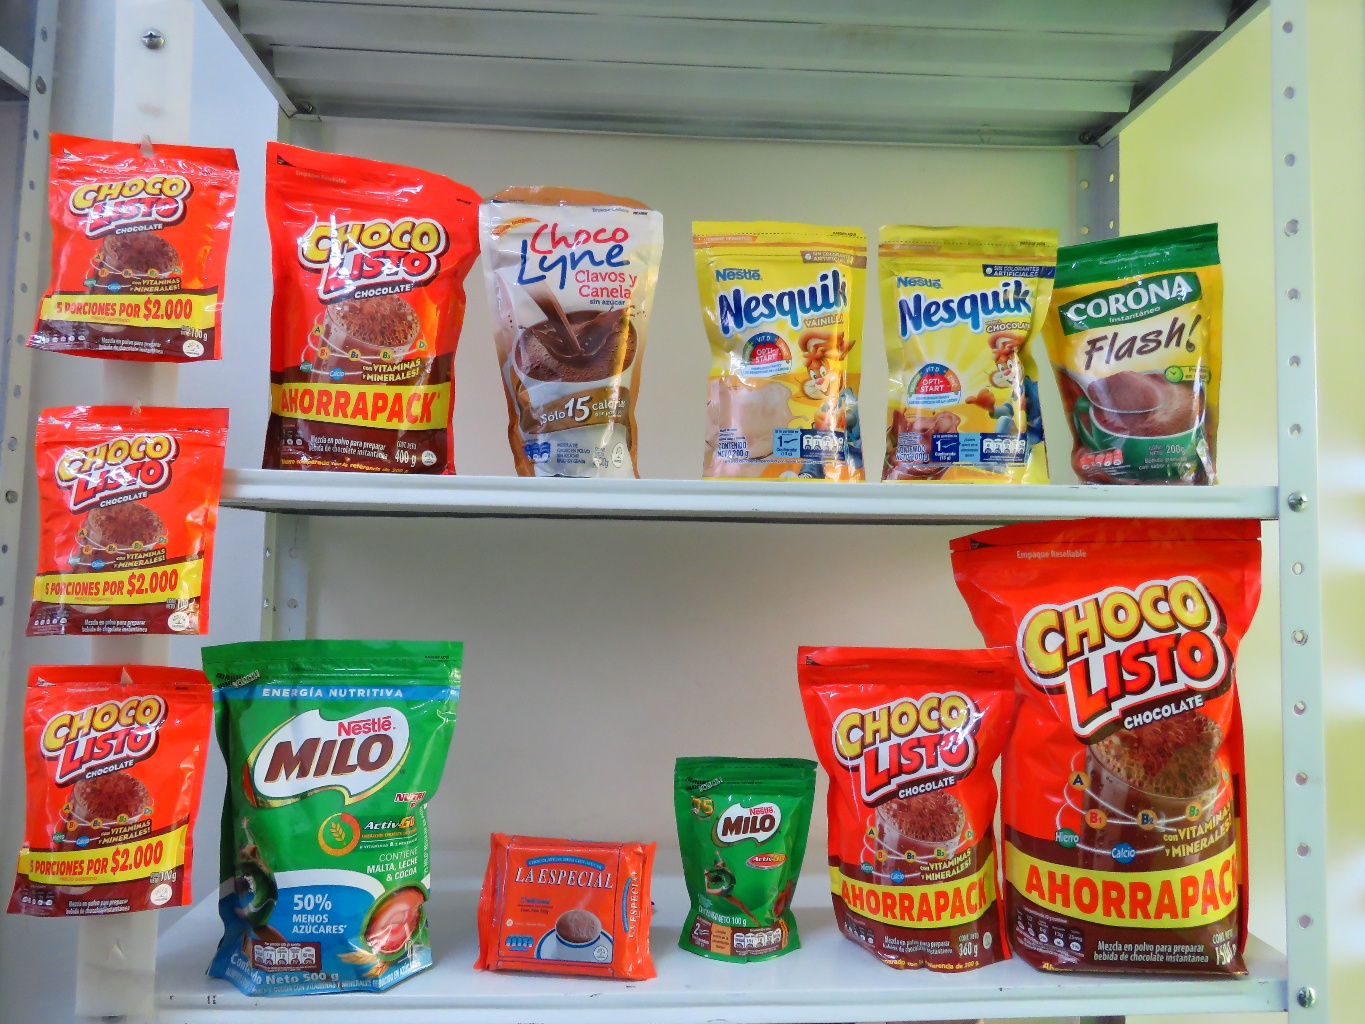COL0170103DYP1,500: (961, 520, 1274, 978)
COL0170103DYP10000: (18, 660, 208, 916)
COL0170103DYP36000: (806, 627, 1020, 970)
COL0170103DYP40000: (246, 134, 478, 473)
COL0170203DYP10000: (668, 744, 825, 971)
COL0170205DYP50000: (208, 620, 468, 1006)
COL0170303DYP20000: (873, 216, 1049, 475)
COL0170306DYP20000: (694, 213, 868, 488)
